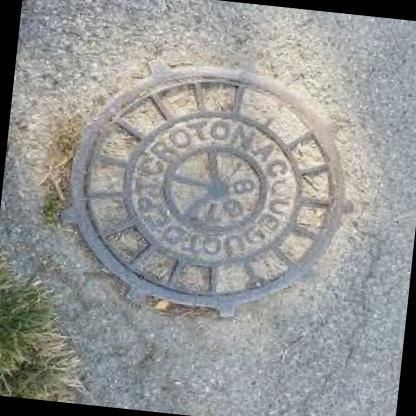manholes: (1, 21, 388, 358)
